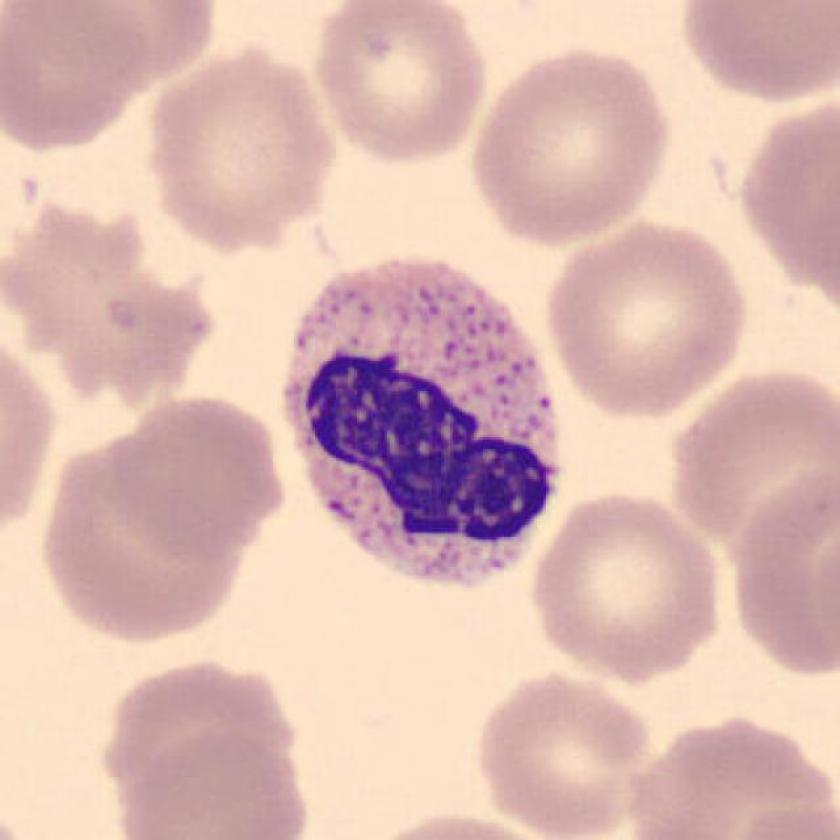neutrophil: (288, 263, 559, 587)
